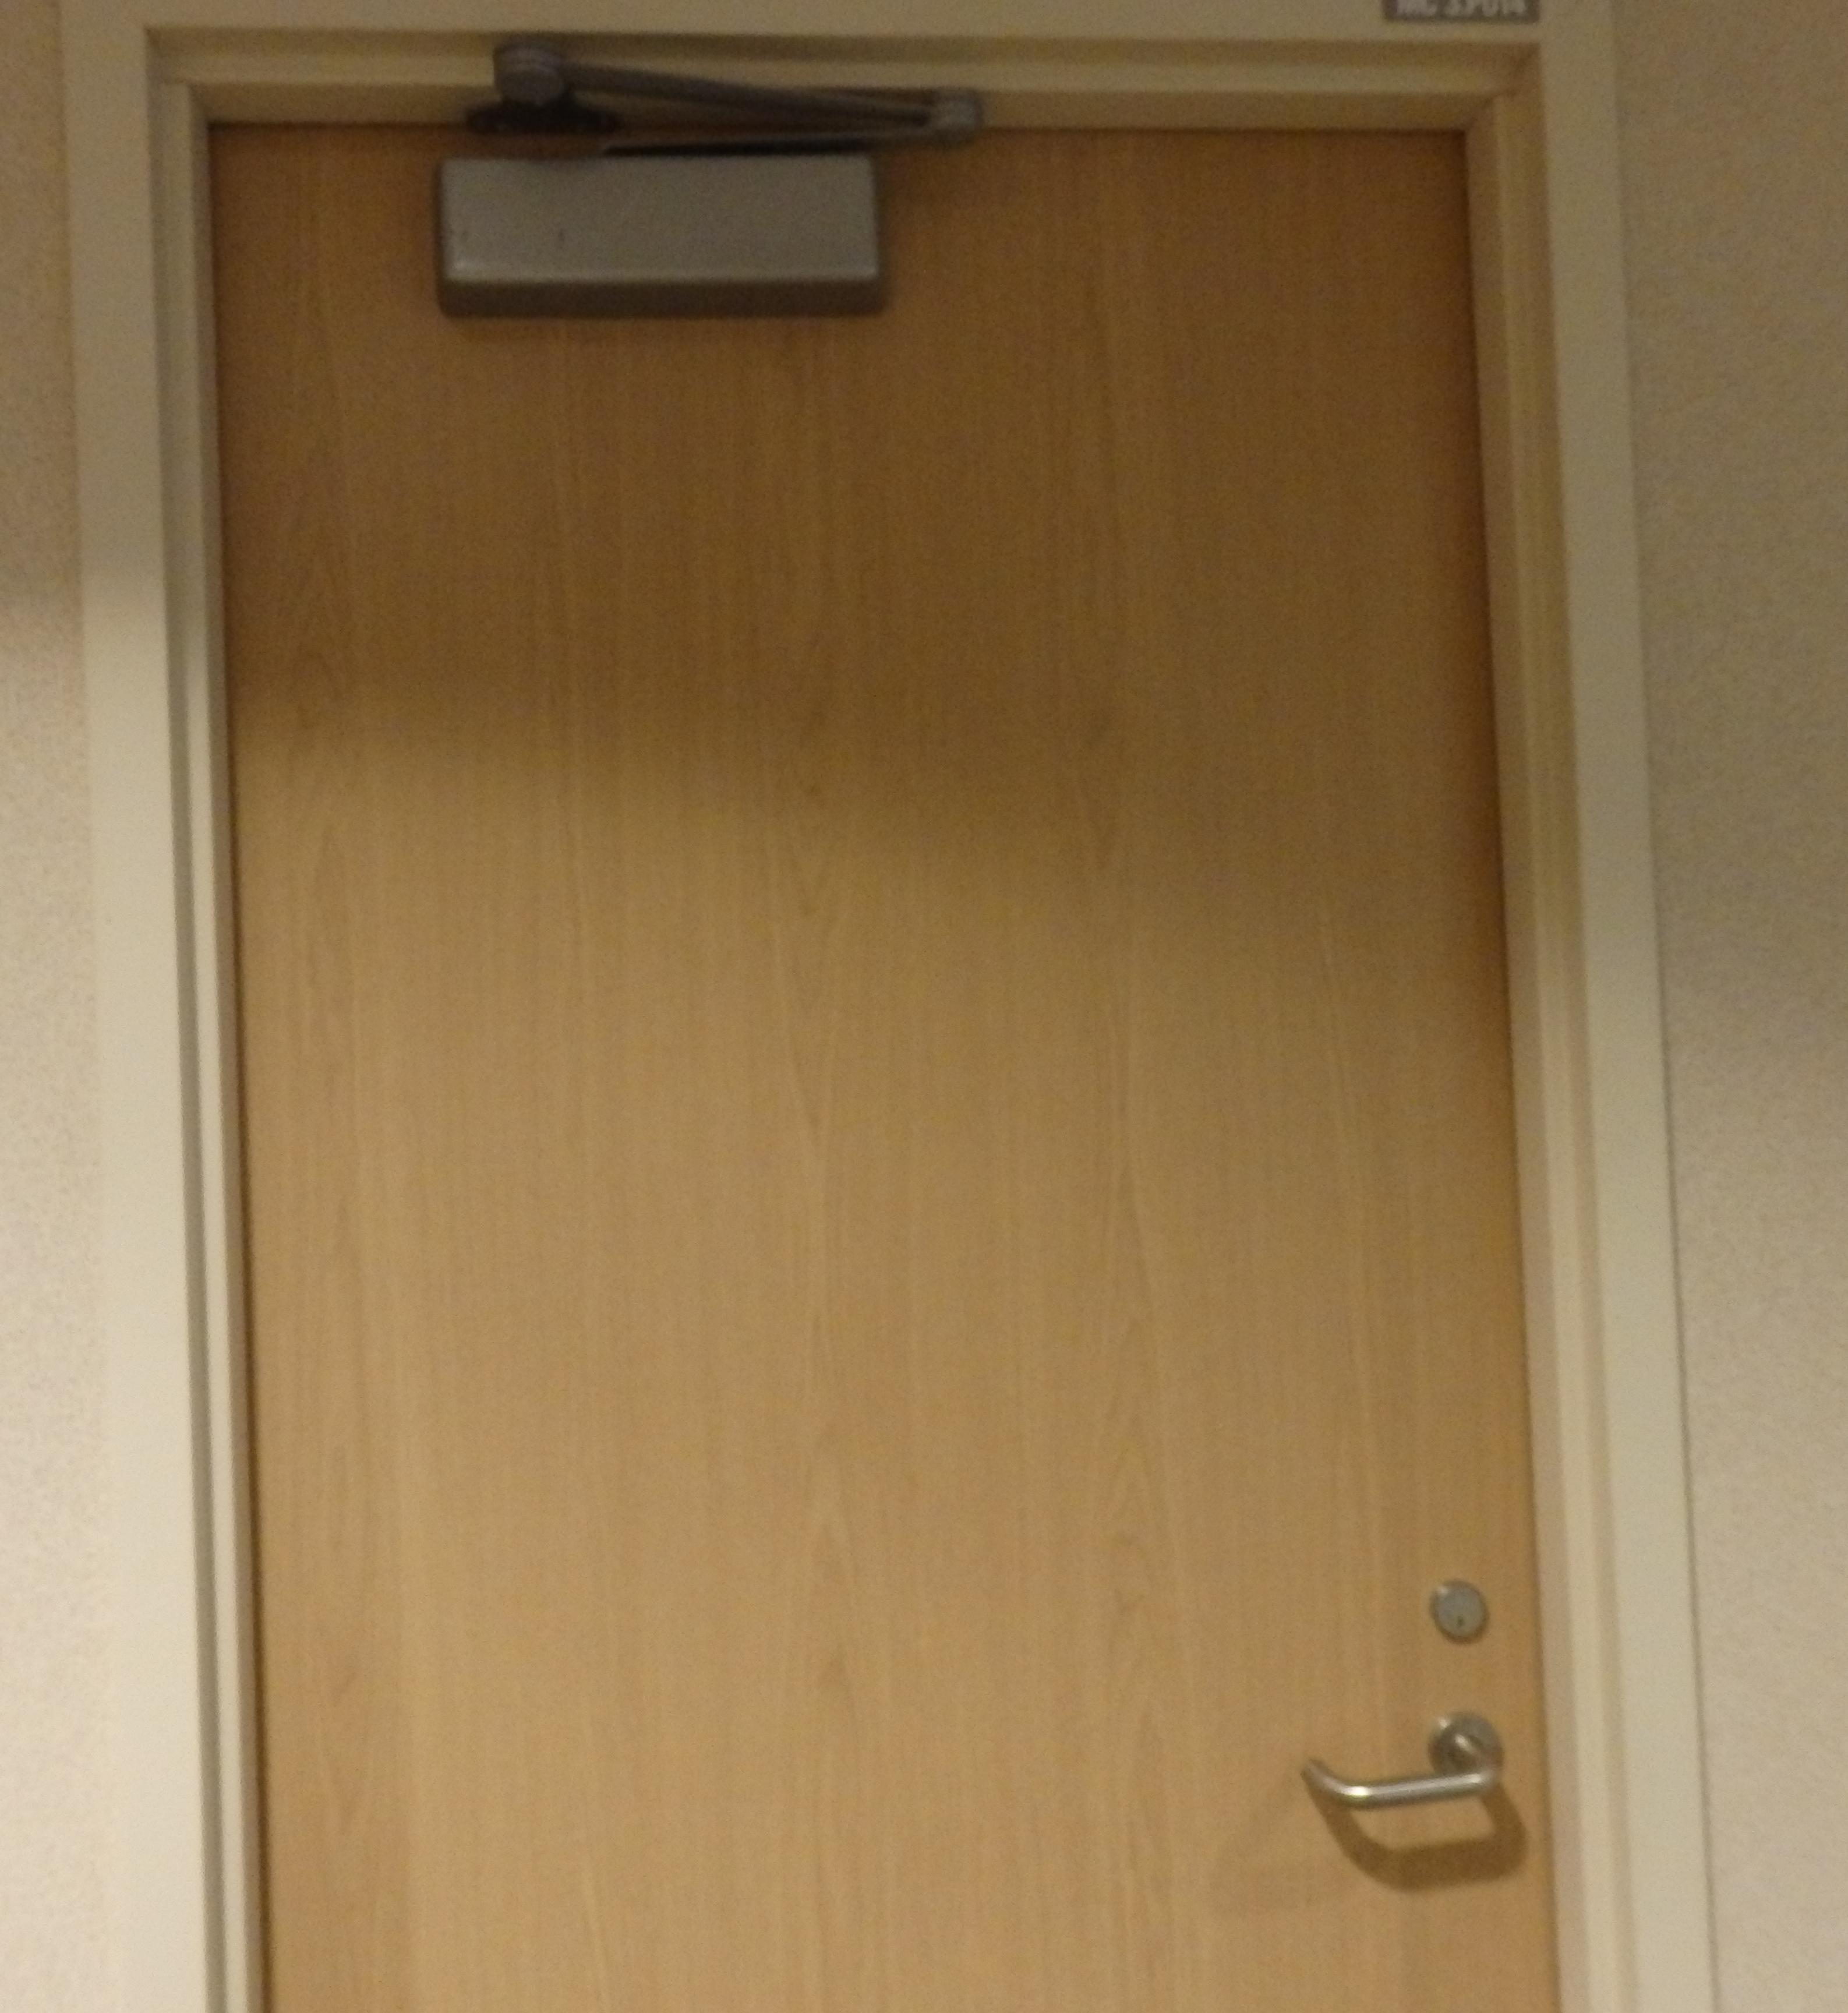door: (189, 91, 1562, 2013)
